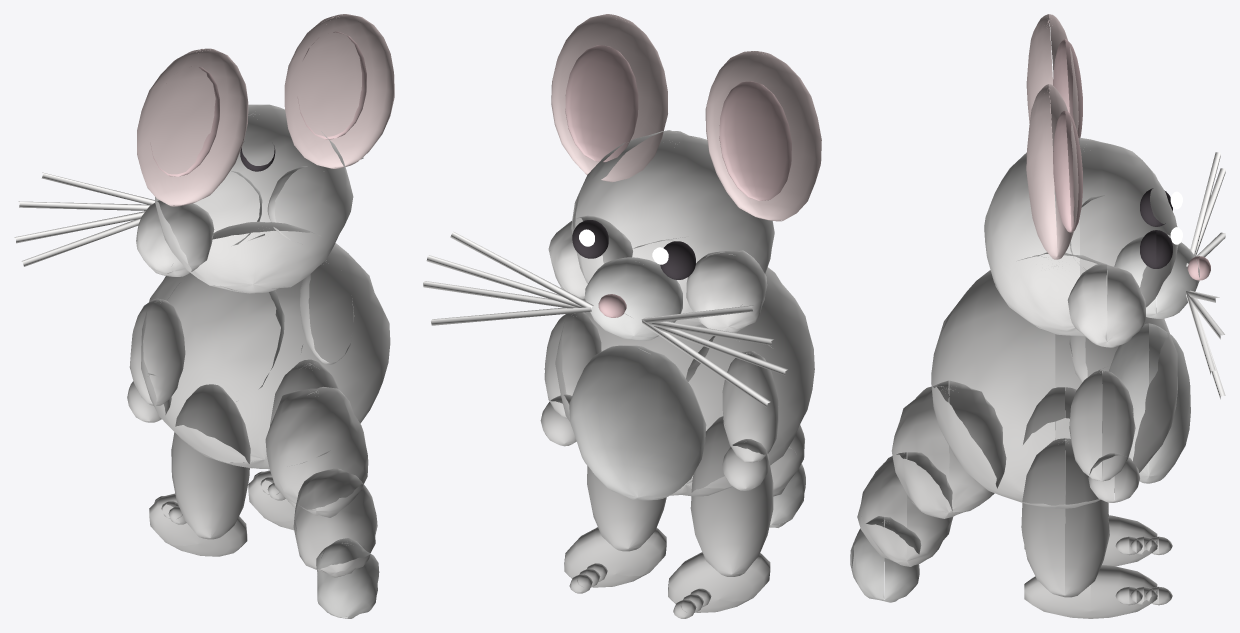
Rendered from player_chinchilla_white.glb.
3 views of the same model, side by side, from view 1: azimuth 30°, elevation 25°; view 2: azimuth 150°, elevation 25°; view 3: azimuth 270°, elevation 25° (orthographic). The views are drawn at different scales.
Parts seen in each view (by area): view 1: chinchilla; view 2: chinchilla; view 3: chinchilla.
Part boxes in pixels (box(x1,y1,x2,y2)): chinchilla: box(14, 14, 394, 618); chinchilla: box(423, 14, 821, 618); chinchilla: box(850, 14, 1225, 618).
Size of the model in its own units: 0.8416 by 1.22 by 0.76.
